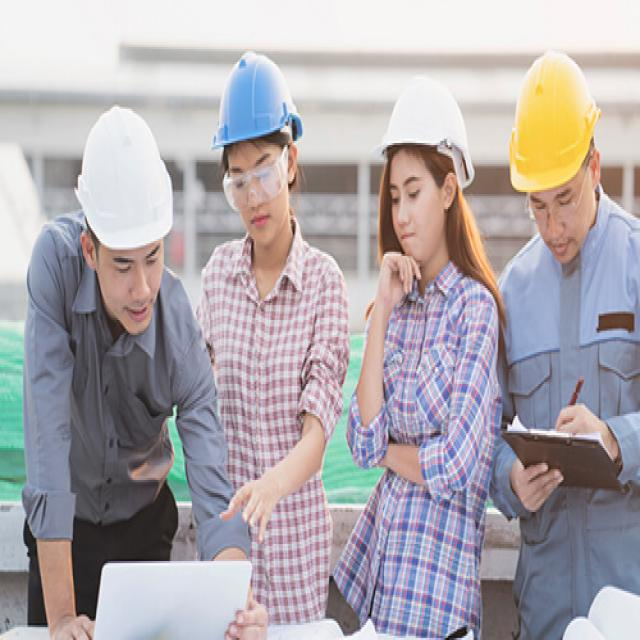glasses: (218, 159, 295, 211)
